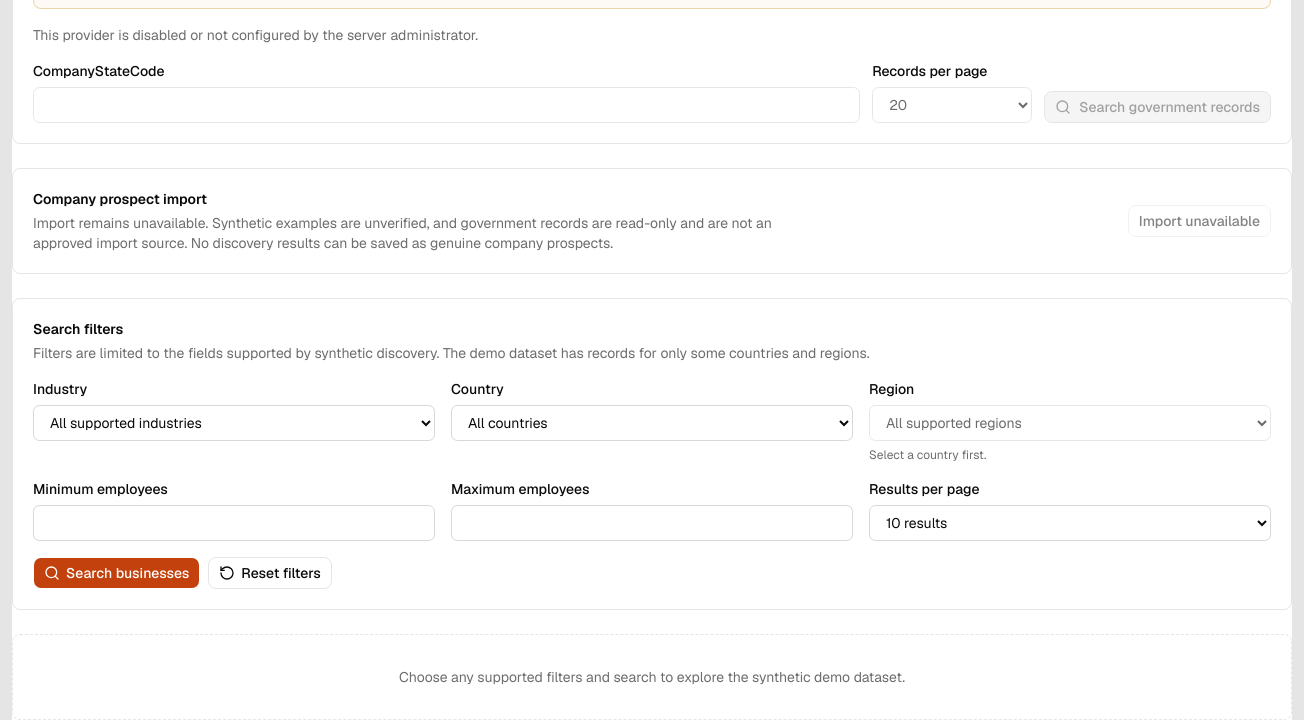
Discovery Workspace › lists every Indian state and union territory without implying demo records exist
(page scrolled)
Select "India" in the dropdown labelled "Country" at (652, 423), box [451,405,853,441]
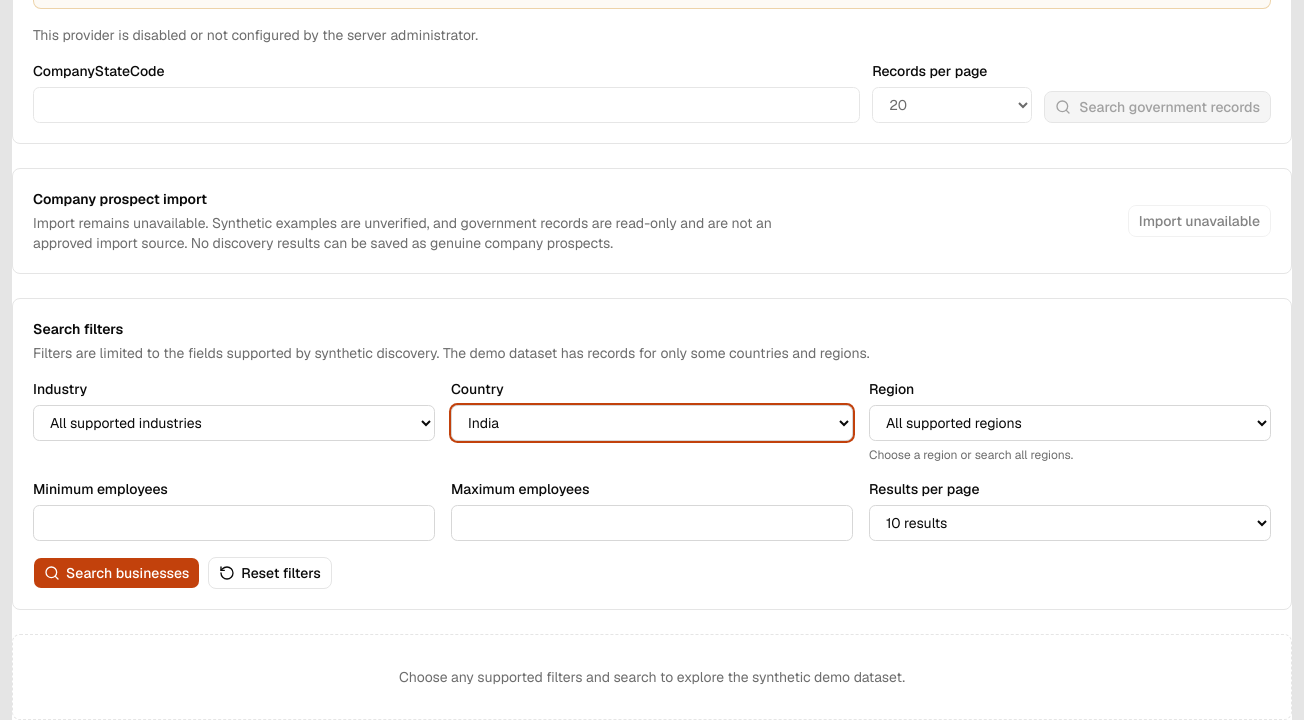
Select "Kerala" in the dropdown labelled "Region Choose a region or search all regions." at (1070, 423), box [869,405,1271,441]
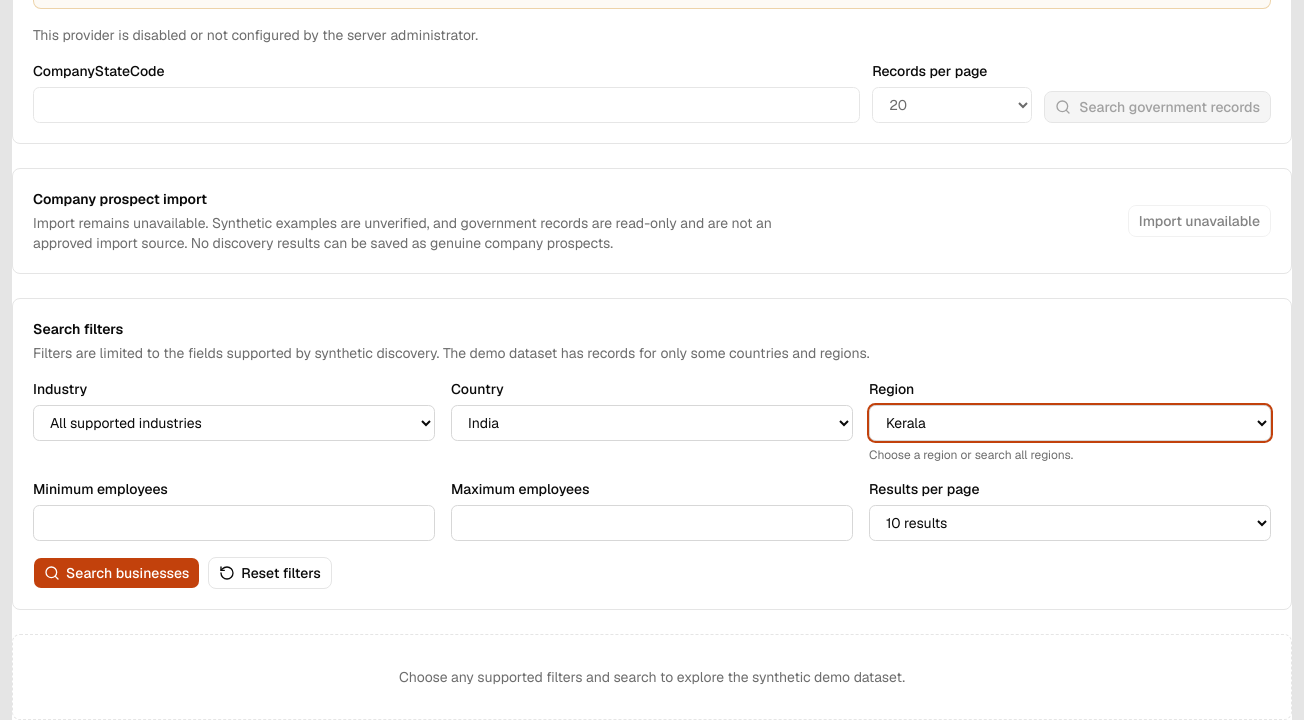
Click the button "Search businesses".
click(117, 573)  # box [33,557,200,589]
(page scrolled)
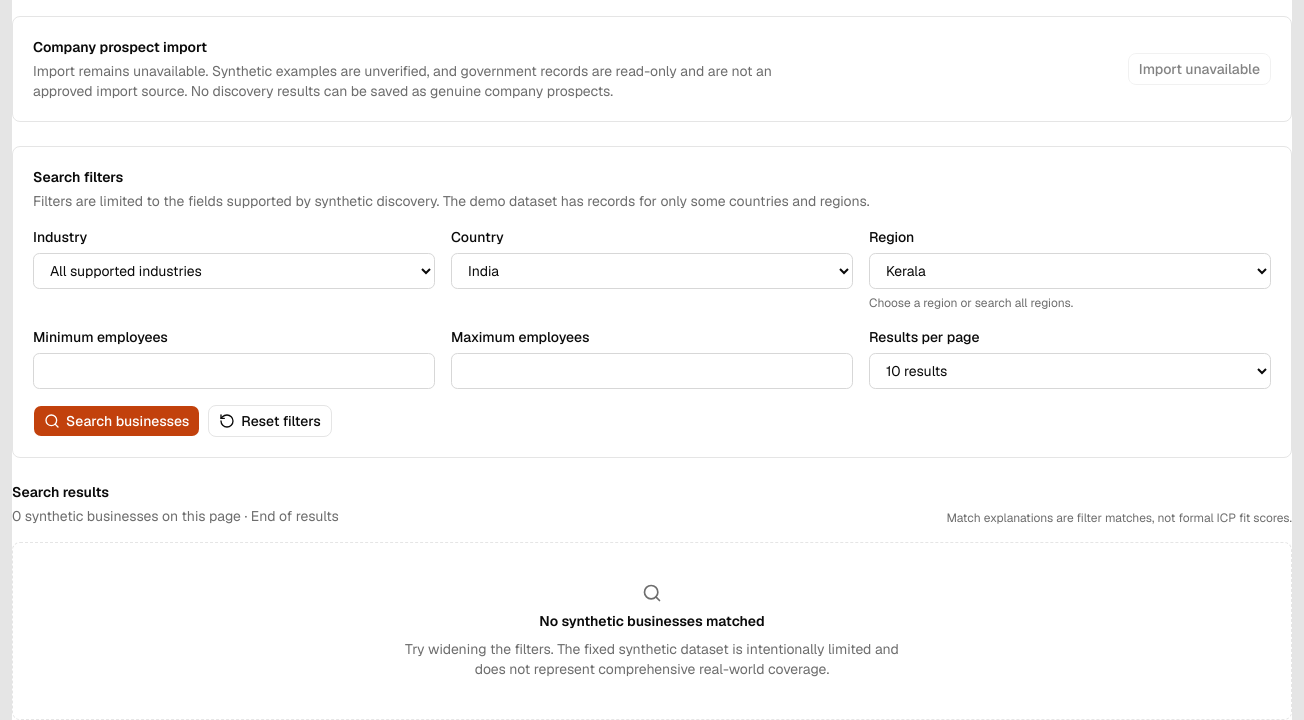
Expected: the heading "No synthetic businesses matched" is shown, [539,611,765,631]
